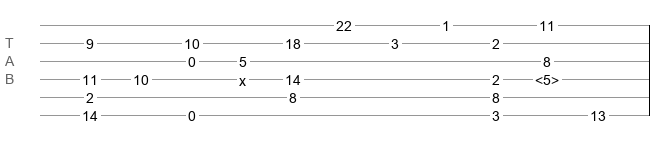0: (188, 108, 196, 118), (188, 54, 196, 64)
1: (442, 18, 450, 28)
10: (133, 72, 149, 82), (184, 36, 200, 46)
11: (82, 72, 98, 82), (539, 18, 555, 28)
13: (590, 108, 606, 118)
14: (82, 108, 98, 118), (285, 72, 301, 82)
18: (285, 36, 301, 46)
2: (86, 90, 94, 100), (492, 36, 500, 46), (492, 72, 500, 82)
22: (336, 18, 352, 28)
3: (391, 36, 399, 46), (492, 108, 500, 118)
5: (239, 54, 247, 64)
8: (289, 90, 297, 100), (492, 90, 500, 100), (543, 54, 551, 64)
9: (86, 36, 94, 46)
harmonic: (535, 72, 559, 82)
x: (239, 73, 246, 81)
